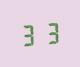three: (19, 21, 39, 47), (40, 20, 60, 45)
